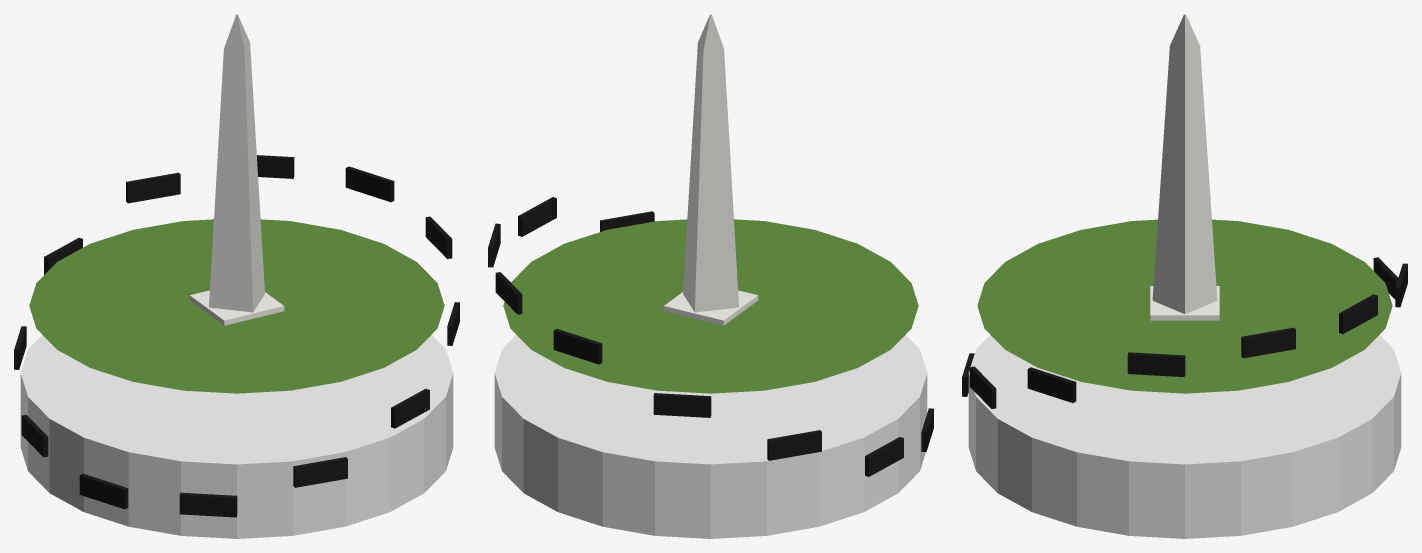
The model's file is rb_obelisk.glb.
3 views of the same model, side by side, from view 1: azimuth 30°, elevation 25°; view 2: azimuth 150°, elevation 25°; view 3: azimuth 270°, elevation 25° (orthographic).
Visible parts, largest first — view 1: rb_obelisk_lod0; view 2: rb_obelisk_lod0; view 3: rb_obelisk_lod0.
Part boxes in pixels (left/top/right/bottom): rb_obelisk_lod0: left=14, top=14, right=459, bottom=538; rb_obelisk_lod0: left=488, top=14, right=933, bottom=538; rb_obelisk_lod0: left=962, top=14, right=1407, bottom=538.
Size of what is drawn, in the model's own units: 10.31 by 11.05 by 10.31.
